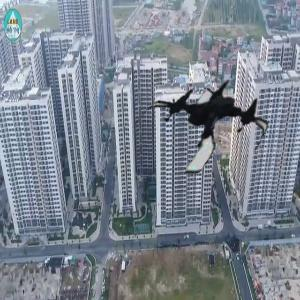drone: (141, 66, 267, 192)
